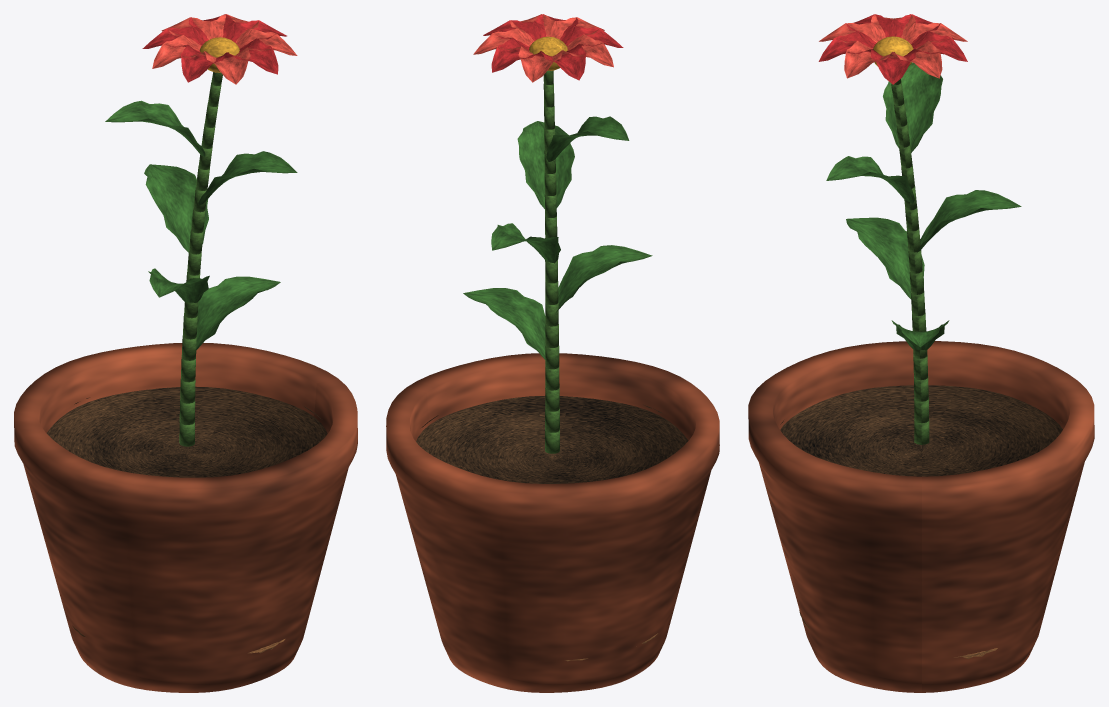
File: flower_01_blooming.glb
3 views of the same model, side by side, from view 1: azimuth 30°, elevation 25°; view 2: azimuth 150°, elevation 25°; view 3: azimuth 270°, elevation 25° (orthographic). The views are drawn at different scales.
Visible parts, largest first — view 1: clay, soil, leaf, stem, petal, petal_light, pollen; view 2: clay, soil, leaf, stem, petal, petal_light, pollen; view 3: clay, soil, leaf, stem, petal_light, petal, pollen.
Boxes of the visible parts, x1,y1,x2,y2 form: clay: [14, 343, 357, 692]; soil: [47, 386, 327, 477]; leaf: [105, 100, 297, 351]; stem: [179, 72, 222, 446]; petal: [142, 14, 286, 82]; petal_light: [152, 14, 297, 84]; pollen: [200, 37, 239, 72]; clay: [386, 353, 719, 692]; soil: [416, 396, 688, 483]; leaf: [463, 116, 652, 360]; stem: [543, 70, 559, 453]; petal: [483, 14, 623, 80]; petal_light: [473, 14, 613, 82]; pollen: [529, 36, 567, 70]; clay: [748, 341, 1094, 692]; soil: [780, 385, 1062, 476]; leaf: [826, 62, 1021, 350]; stem: [891, 79, 929, 444]; petal_light: [819, 14, 967, 78]; petal: [818, 14, 967, 84]; pollen: [873, 36, 913, 66].
Size of the model in its own units: 0.2421 by 0.4781 by 0.2422.
Materials: 8 (8 with a texture image).
